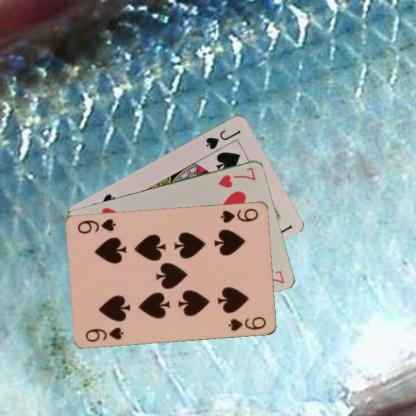7h: (216, 164, 257, 189)
9s: (82, 324, 124, 343), (218, 205, 259, 224)
Js: (203, 126, 243, 151)
